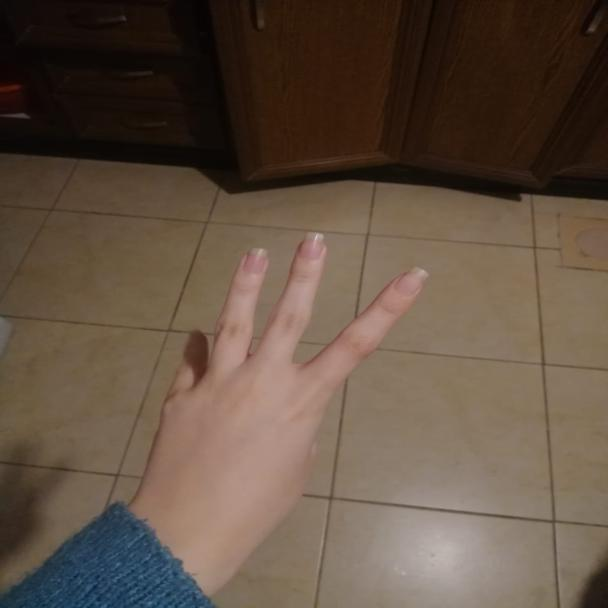five: (156, 219, 438, 544)
